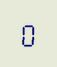zero: (19, 19, 35, 47)
